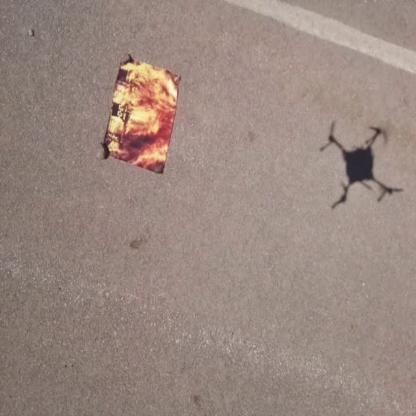fire-poster: (101, 52, 182, 176)
